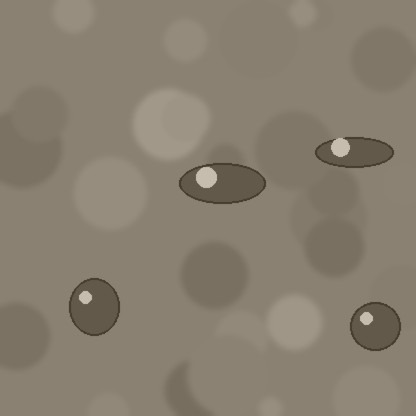gota: (179, 165, 265, 207), (69, 280, 119, 340), (350, 304, 400, 354), (315, 138, 393, 170)
